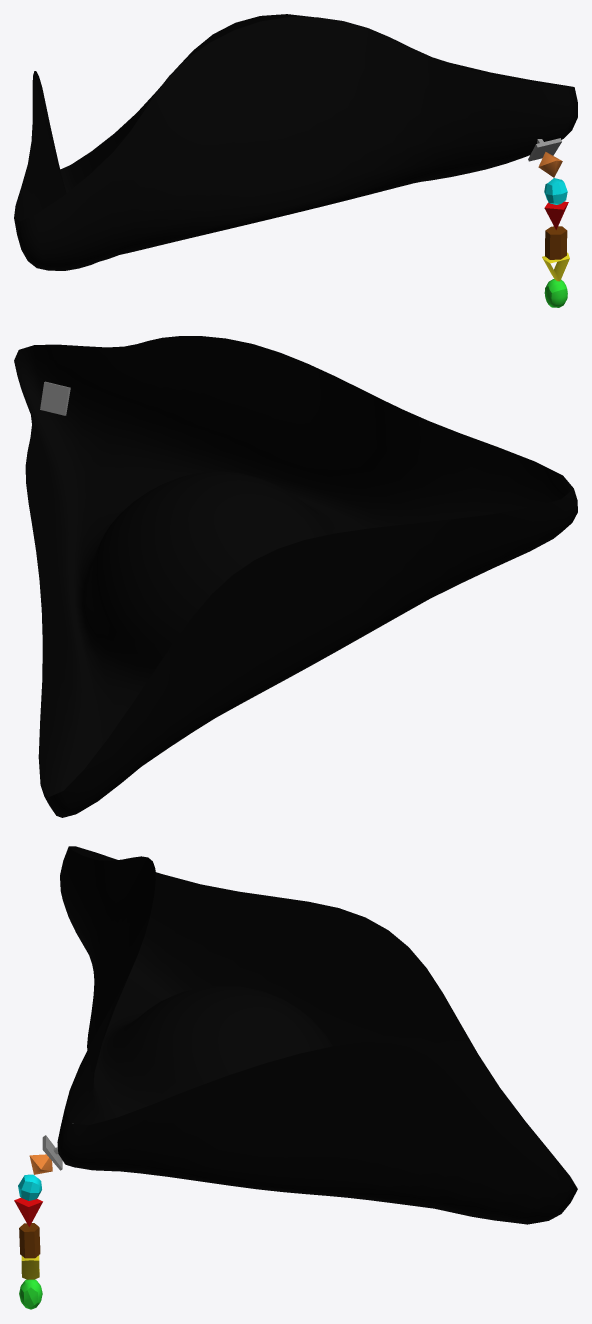
File: Sombrero.fbx
The picture shows the model from 3 angles, top to bottom: view 1: azimuth 30°, elevation 25°; view 2: azimuth 150°, elevation 25°; view 3: azimuth 270°, elevation 25°; orthographic projection. The views are drawn at different scales.
Parts seen in each view (by area): view 1: PirateHat, Colgante; view 2: PirateHat, Colgante; view 3: PirateHat, Colgante.
Part boxes in pixels (x1,y1,x2,y2): PirateHat: (14,14,577,270); Colgante: (528,138,569,307); PirateHat: (14,336,577,817); Colgante: (40,381,70,415); PirateHat: (57,846,577,1224); Colgante: (14,1123,73,1309).
Bounding box in the file's own units: 44.62 × 25.58 × 38.08.
